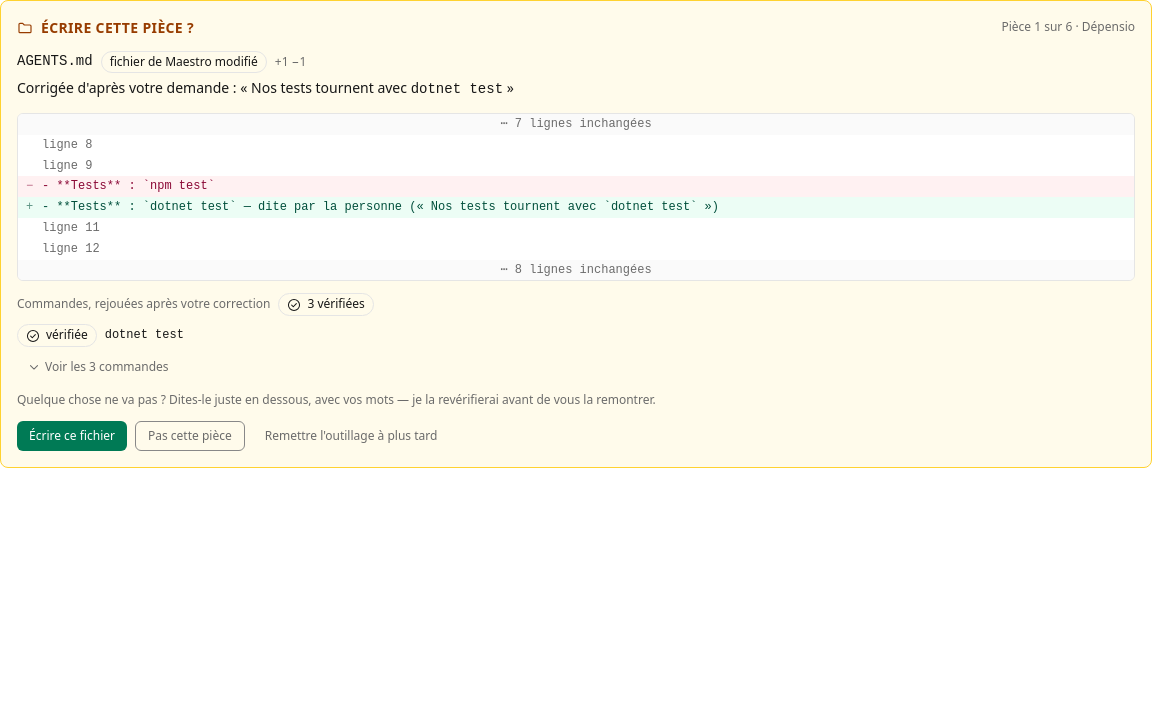
Test: la carte d'une pièce d'outillage › ② la liste entière des commandes se déplie à la demande
Expected: the text "npm ci" is not shown
Click the button "Voir les 3 commandes" at (98, 367), box [17,355,179,380]
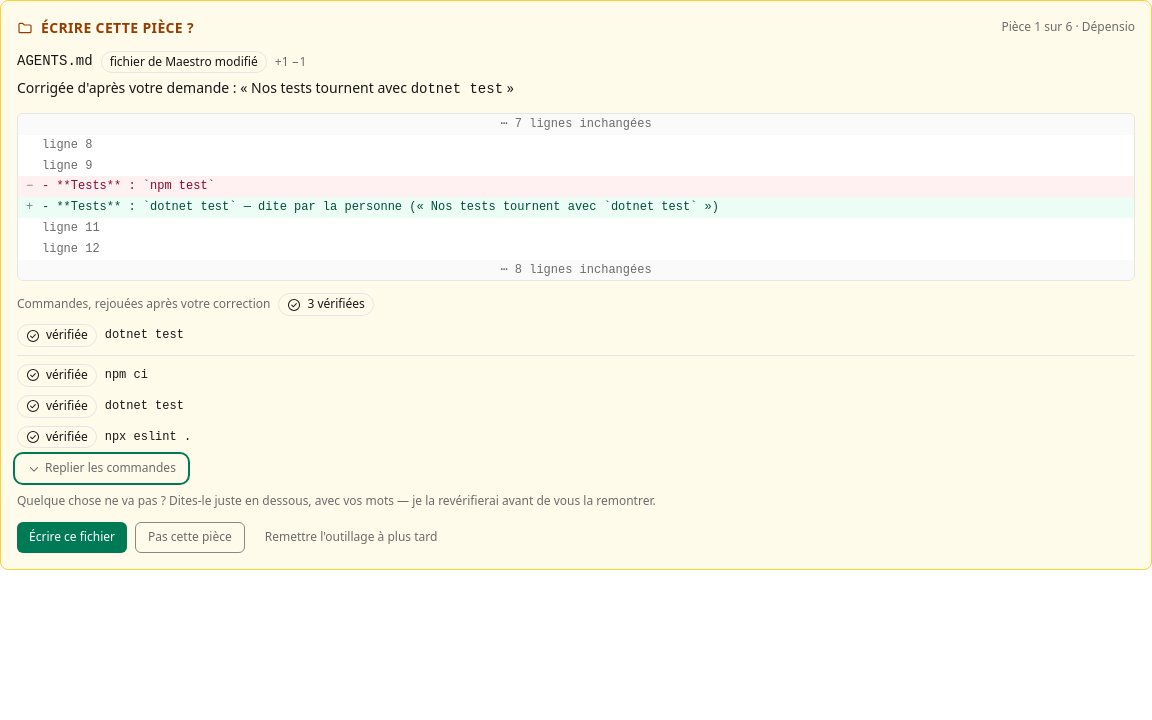
Now the text "npm ci" is shown, box [105,368,148,382]
Now the text "npx eslint ." is shown, box [105,430,191,444]
Now the button "Replier les commandes" is expanded, box [17,456,186,481]
